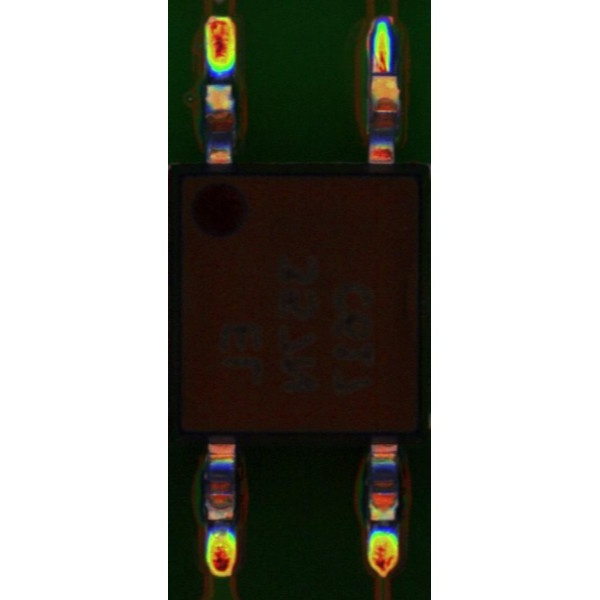Bad_podu: (375, 59, 391, 86)
